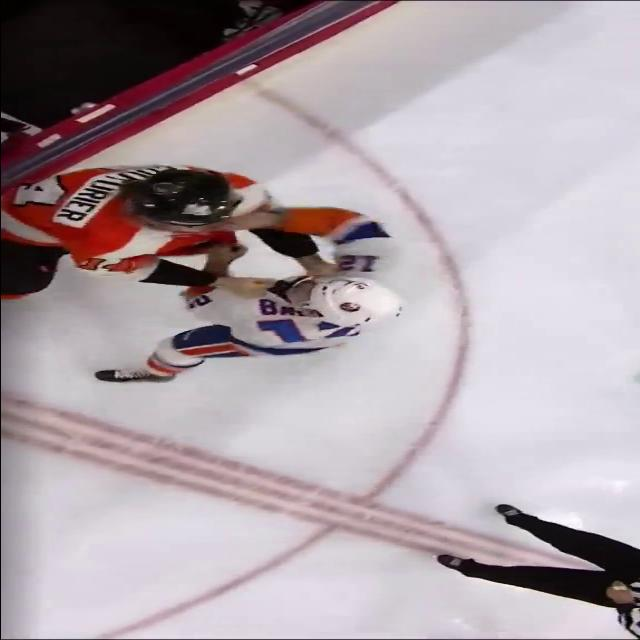Violence: (0, 167, 404, 383)
